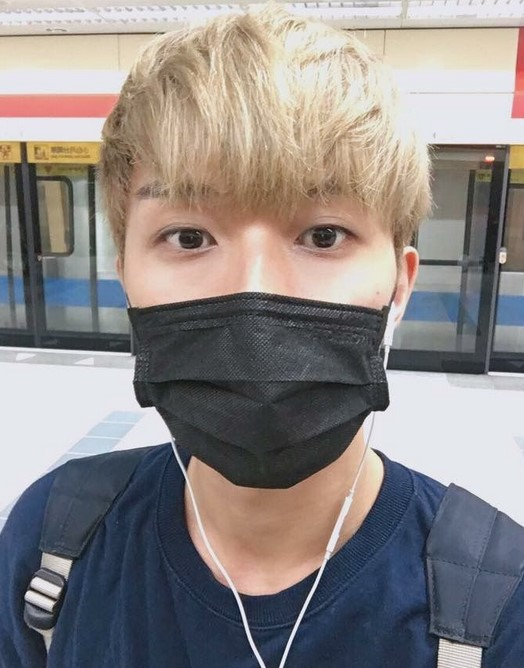face_with_mask: (97, 17, 435, 490)
